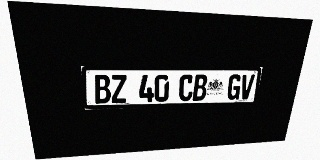0: (154, 75, 169, 102)
4: (139, 75, 154, 102)
B: (93, 75, 111, 104), (192, 74, 208, 101)
C: (178, 74, 194, 101)
G: (226, 74, 242, 100)
V: (239, 74, 255, 99)
Z: (110, 75, 127, 103)
